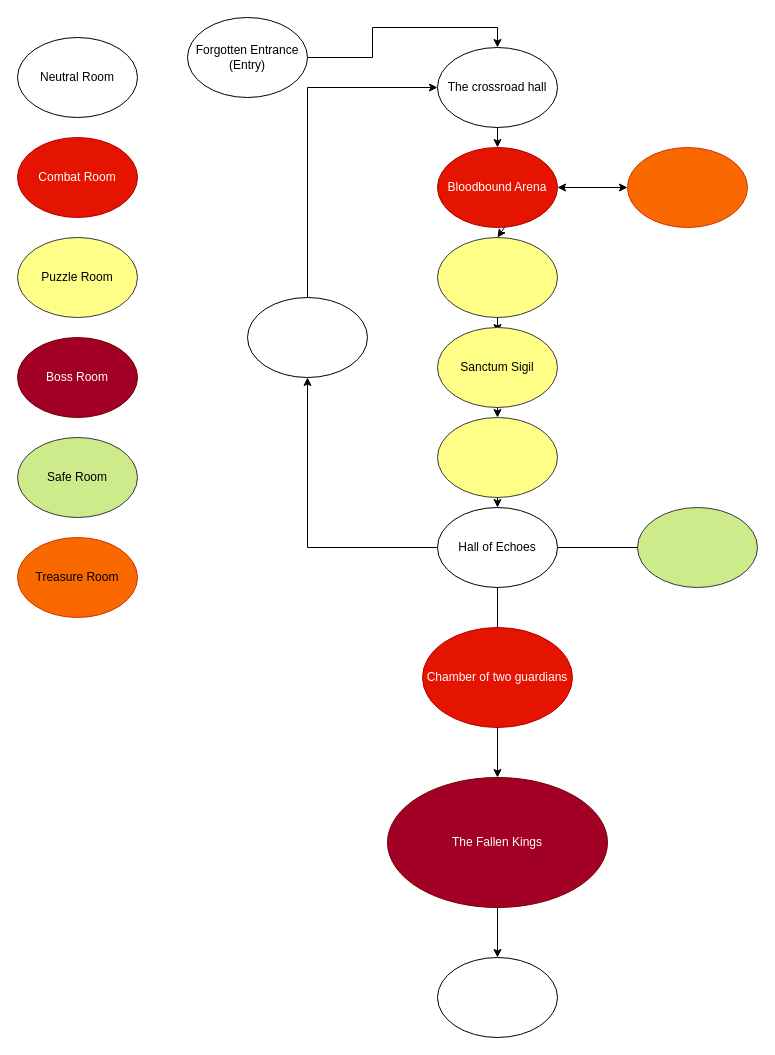
This 775x1055 diagram has some shape labels left out. The shapes that lost their labels are listed below. From the top down, each one's box as (x1, y1, x2, y2) in pixels, then its label:
(626, 146, 748, 228): Forgotten Riches
(436, 236, 558, 318): The Rune Chamber
(246, 296, 368, 378): Unlock Shortcut
(436, 416, 558, 498): The sealed Gate
(636, 506, 758, 588): Resting Shrine
(436, 956, 558, 1038): Exit
